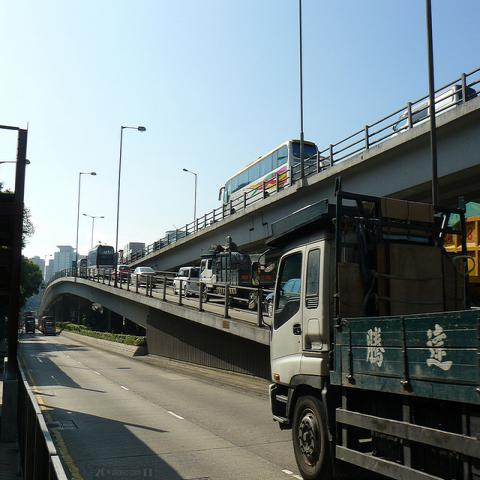bus: (219, 139, 318, 217), (86, 246, 116, 278), (77, 258, 88, 270)
car: (265, 277, 301, 317), (172, 267, 200, 296), (130, 267, 156, 287), (111, 265, 132, 280), (25, 316, 36, 334), (44, 322, 56, 336), (36, 323, 38, 329)
truck: (266, 184, 478, 474), (199, 236, 276, 287), (123, 241, 146, 263)
